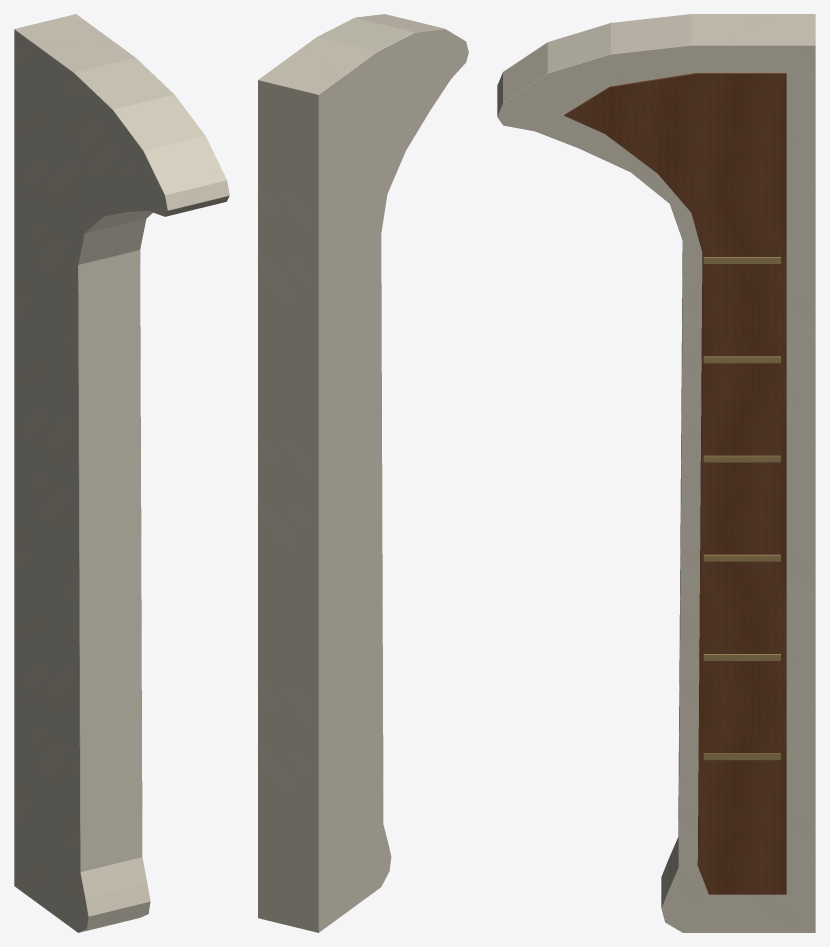
File: AST-LIB-STR-003.glb
3 views of the same model, side by side, from view 1: azimuth 30°, elevation 25°; view 2: azimuth 150°, elevation 25°; view 3: azimuth 270°, elevation 25° (orthographic). The views are drawn at different scales.
Visible parts, largest first — view 1: ASTRAEA_library_ivory_enamel; view 2: ASTRAEA_library_ivory_enamel; view 3: ASTRAEA_library_warm_walnut, ASTRAEA_library_ivory_enamel, ASTRAEA_library_champagne_metal.
Boxes of the visible parts, x1,y1,x2,y2 form: ASTRAEA_library_ivory_enamel: (14,14,229,932); ASTRAEA_library_ivory_enamel: (258,14,468,932); ASTRAEA_library_warm_walnut: (564,73,786,894); ASTRAEA_library_ivory_enamel: (497,14,815,932); ASTRAEA_library_champagne_metal: (703,257,780,760).
Size of the model in its own units: 0.271 by 3.4 by 1.1.
3 materials, 3 textured.
